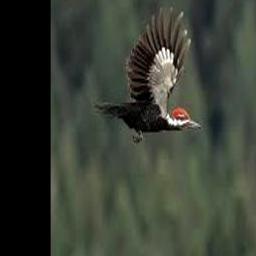Woodpecker: (94, 6, 201, 144)
